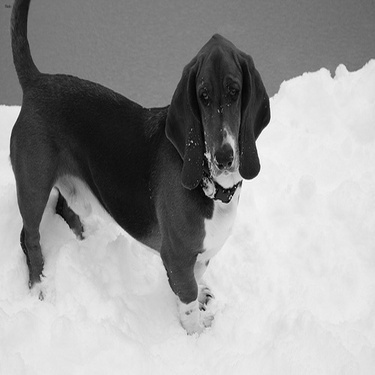dog: (7, 1, 278, 336)
